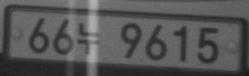1: (170, 24, 192, 62)
5: (196, 26, 219, 64)
6: (144, 23, 168, 61), (27, 16, 50, 53), (52, 18, 74, 56)
9: (119, 21, 142, 58)
누: (77, 22, 100, 54)
